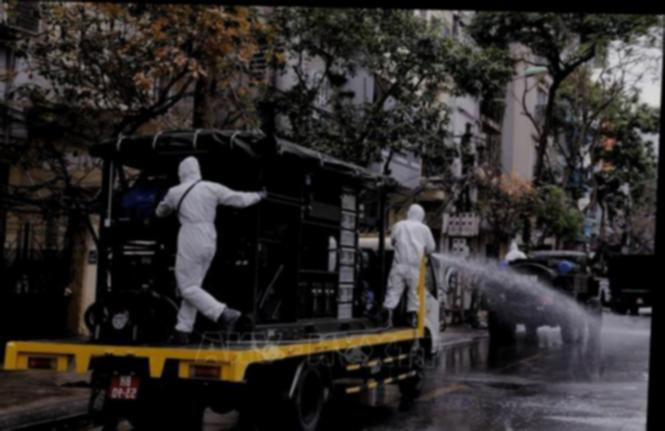License_Plate: (106, 373, 146, 404)
